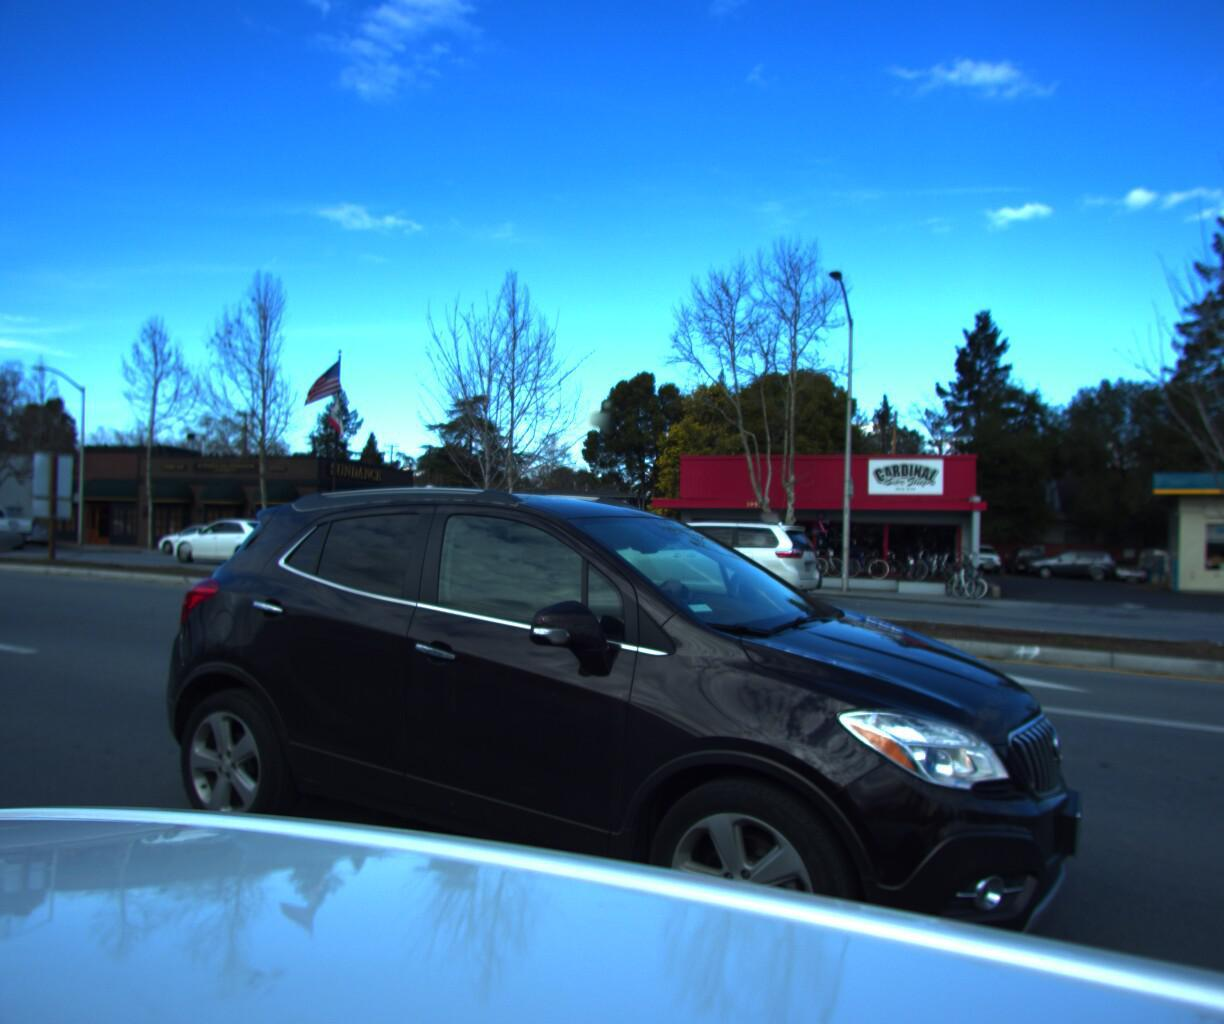car: (126, 480, 1108, 1024), (588, 513, 840, 609), (307, 504, 503, 593), (162, 510, 315, 570), (150, 518, 260, 558)
